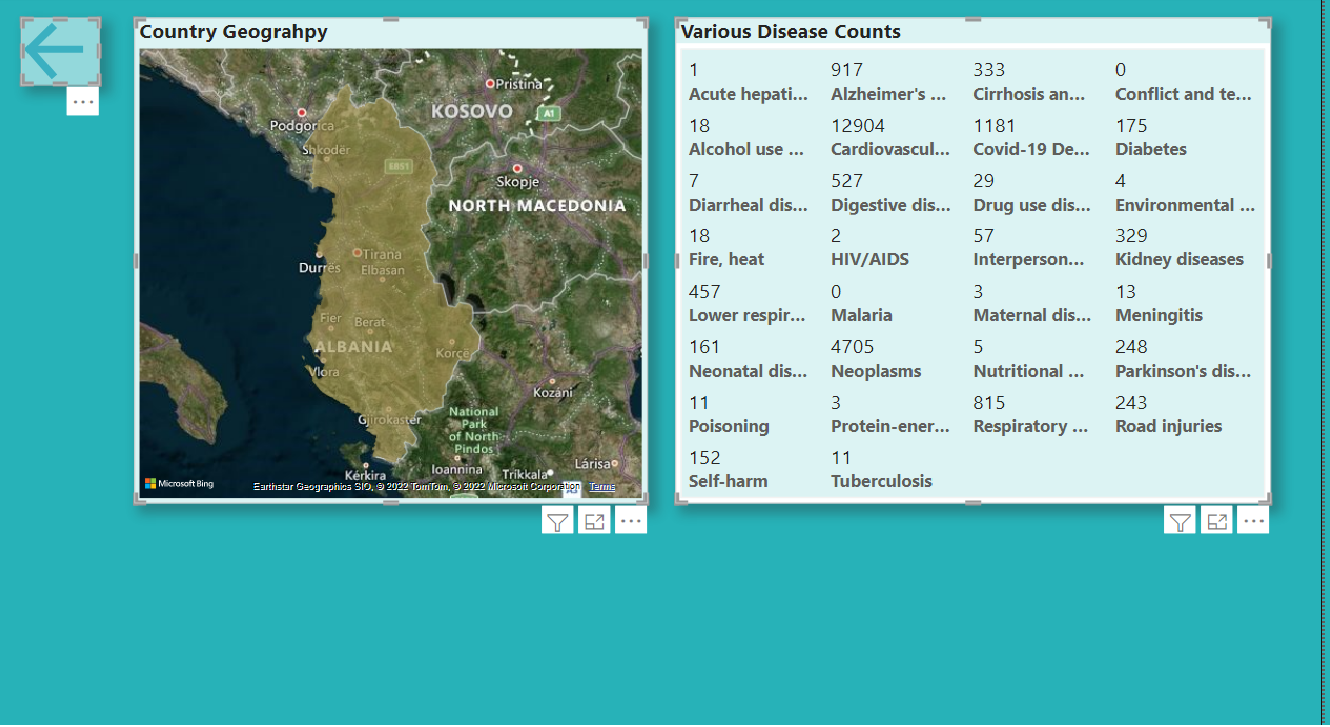

The dashboard page shown, as its layout file describes it:
{"tool":"powerbi","page":{"name":"Page 3","canvas":[1280,720],"ordinal":2},"visuals":[{"type":"filledMap","title":"Country Geograhpy","fields":{"Category":["Death Cause Reason by Country.Country Name"]},"box":[189.3,21.7,471.6,469.1],"z":0},{"type":"multiRowCard","title":"Various Disease Counts","fields":{"Values":["Sum(Death Cause Reason by Country. Acute hepatitis)","Sum(Death Cause Reason by Country. Alzheimer's disease)","Sum(Death Cause Reason by Country. Cirrhosis and other chronic liver diseases)","Sum(Death Cause Reason by Country. Conflict and terrorism)","Sum(Death Cause Reason by Country.Alcohol use disorders)","Sum(Death Cause Reason by Country.Cardiovascular diseases)","Sum(Death Cause Reason by Country.Covid-19 Deaths)","Sum(Death Cause Reason by Country.Diabetes )","Sum(Death Cause Reason by Country.Diarrheal diseases)","Sum(Death Cause Reason by Country.Digestive diseases)","Sum(Death Cause Reason by Country.Drug use disorders)","Sum(Death Cause Reason by Country.Environmental heat and cold exposure)"]},"box":[686.2,21.7,546.3,469.1],"z":1},{"type":"actionButton","box":[85.6,21.7,72.4,65.1],"z":2},{"type":"shape","box":[783.9,511.4,448.6,149.5],"z":3}]}

Visuals, with their boxes in screenshot pixels (x1, y1, x2, y2), scaled from the page's 1280x720 canvas onto the 1330x727 screenshot:
"Country Geograhpy" filledMap: [197,22,687,496]
"Various Disease Counts" multiRowCard: [713,22,1281,496]
actionButton: [89,22,164,88]
shape: [815,516,1281,667]
